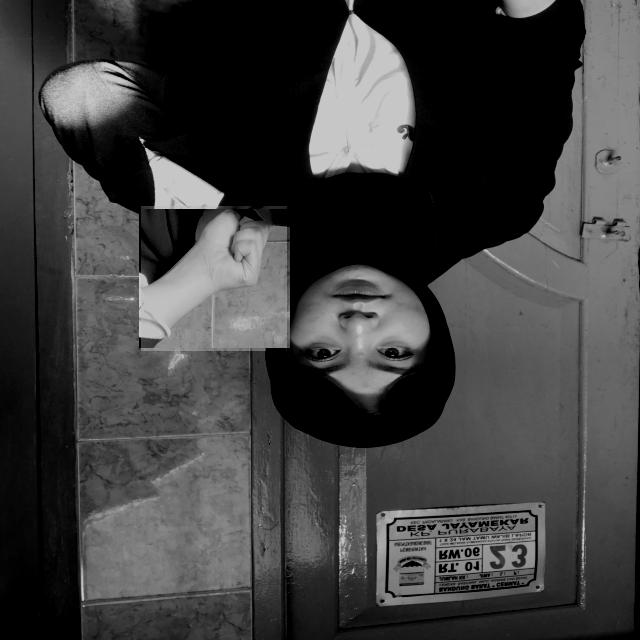ibu: (141, 206, 287, 351)
